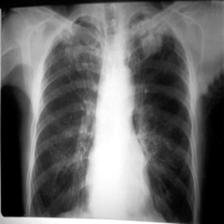tuberculosis: (20, 9, 201, 223)
